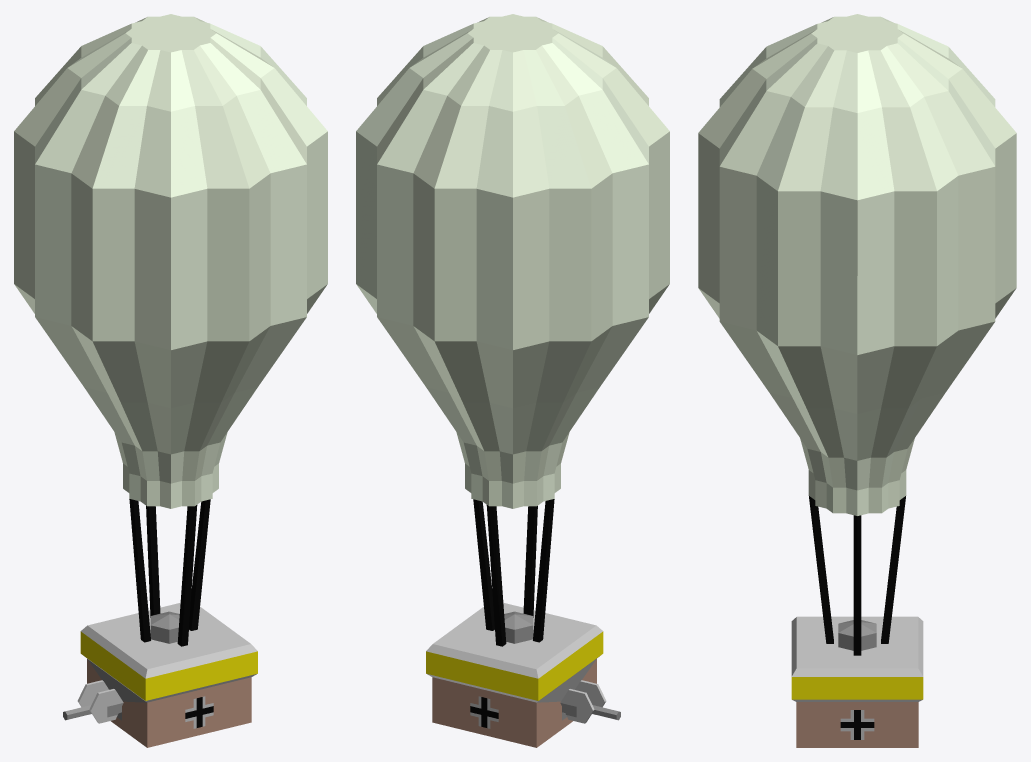
File: Balloon.fbx
The picture shows the model from 3 angles, left to right: view 1: azimuth 30°, elevation 25°; view 2: azimuth 150°, elevation 25°; view 3: azimuth 270°, elevation 25°; orthographic projection.
Parts seen in each view (by area): view 1: Balloon; view 2: Balloon; view 3: Balloon.
Boxes of the visible parts, x1,y1,x2,y2 form: Balloon: (14,14,327,747); Balloon: (356,14,669,747); Balloon: (698,14,1016,747).
Bounding box in the file's own units: 804 × 1970 × 804.
